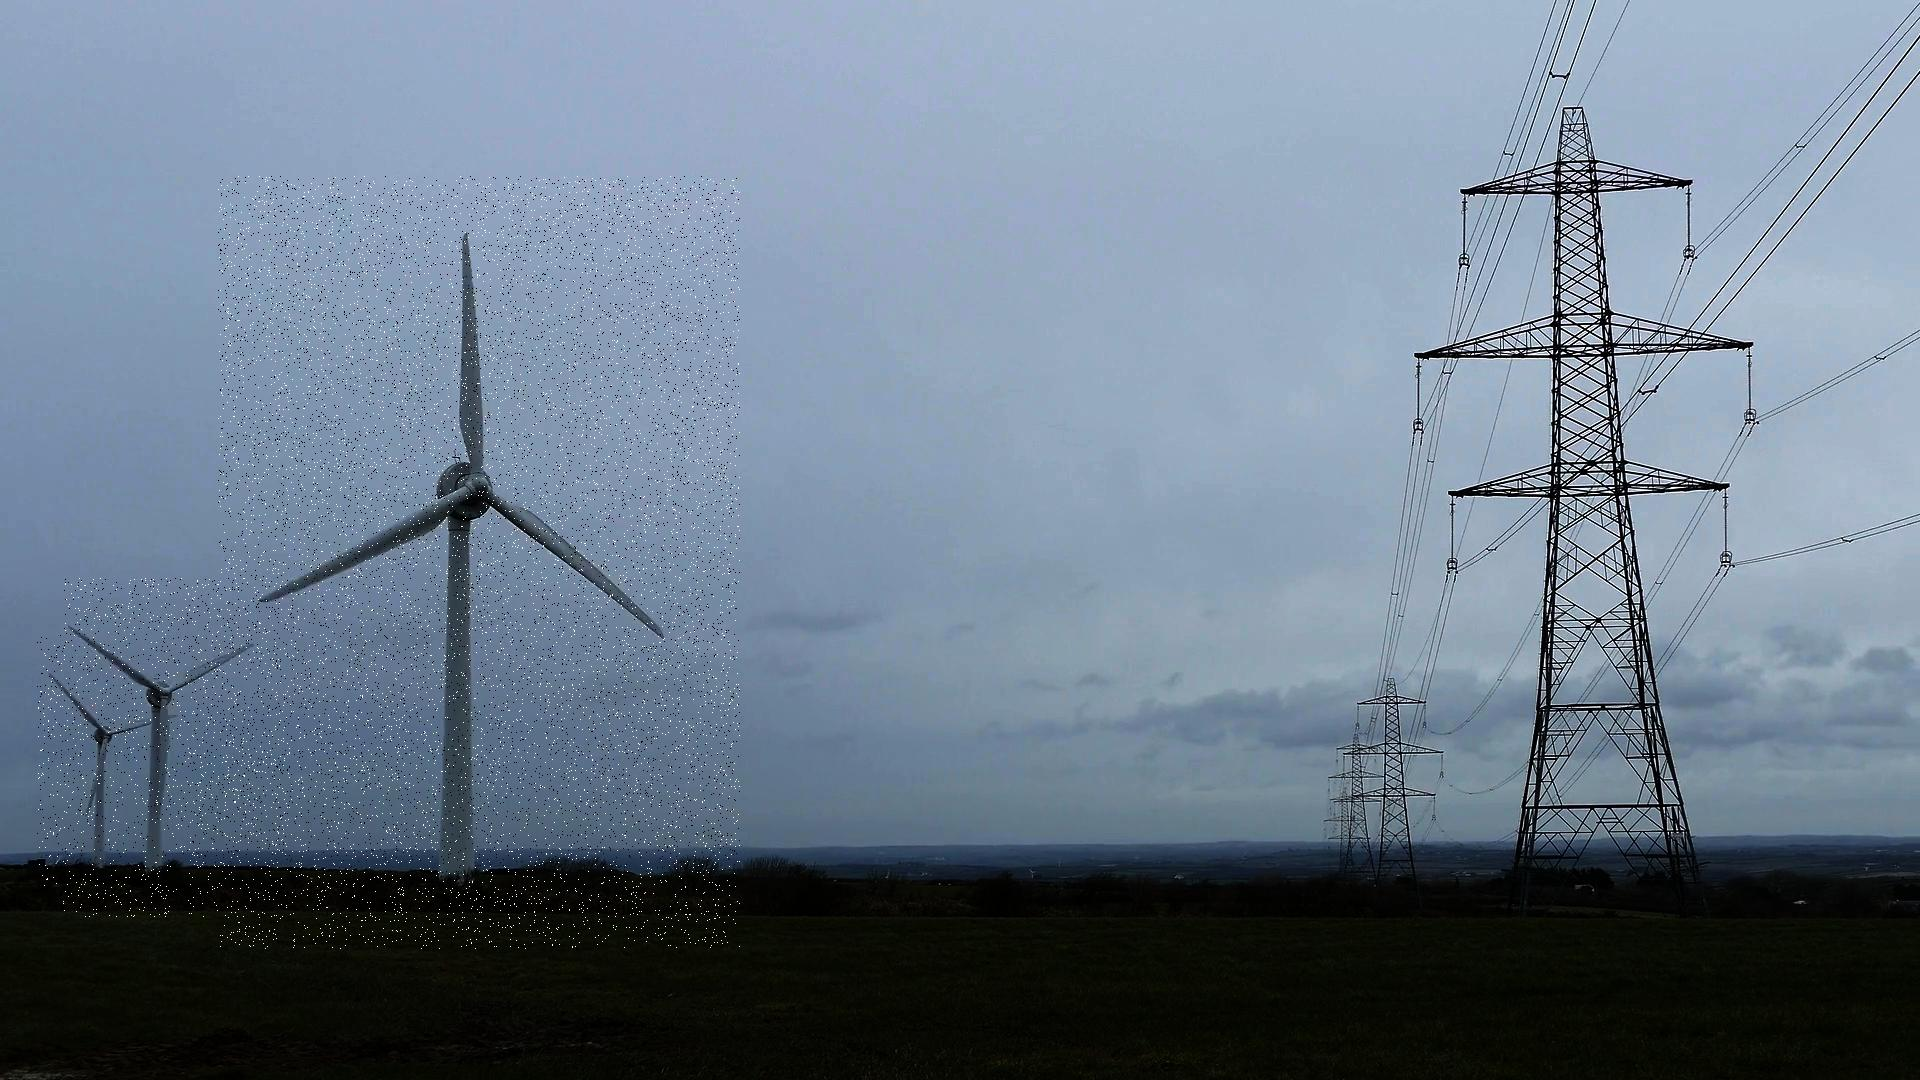cable tower: (1404, 104, 1756, 922), (1342, 674, 1447, 916), (1328, 731, 1386, 891), (1325, 787, 1371, 881)
turbine: (218, 175, 740, 949), (63, 579, 293, 918), (37, 633, 193, 887)
